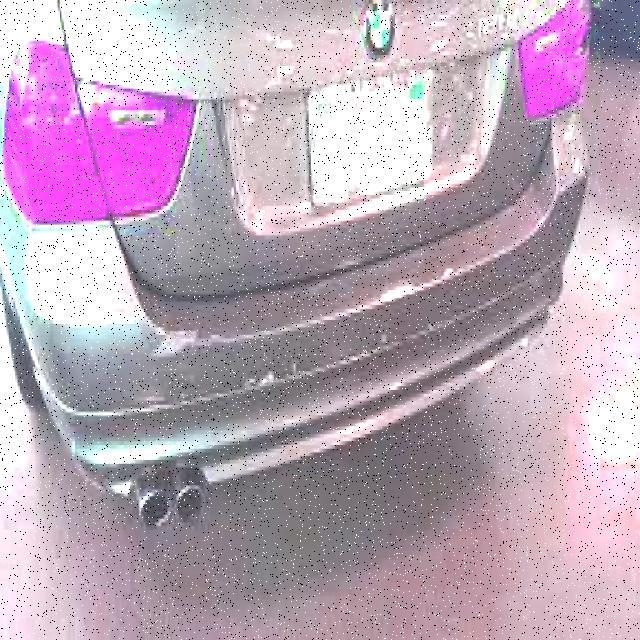car damage: (151, 317, 223, 371), (247, 359, 305, 397), (236, 83, 270, 135), (561, 125, 588, 190), (268, 32, 300, 83), (375, 280, 421, 309), (428, 12, 452, 58), (475, 351, 499, 379), (438, 261, 462, 286)
